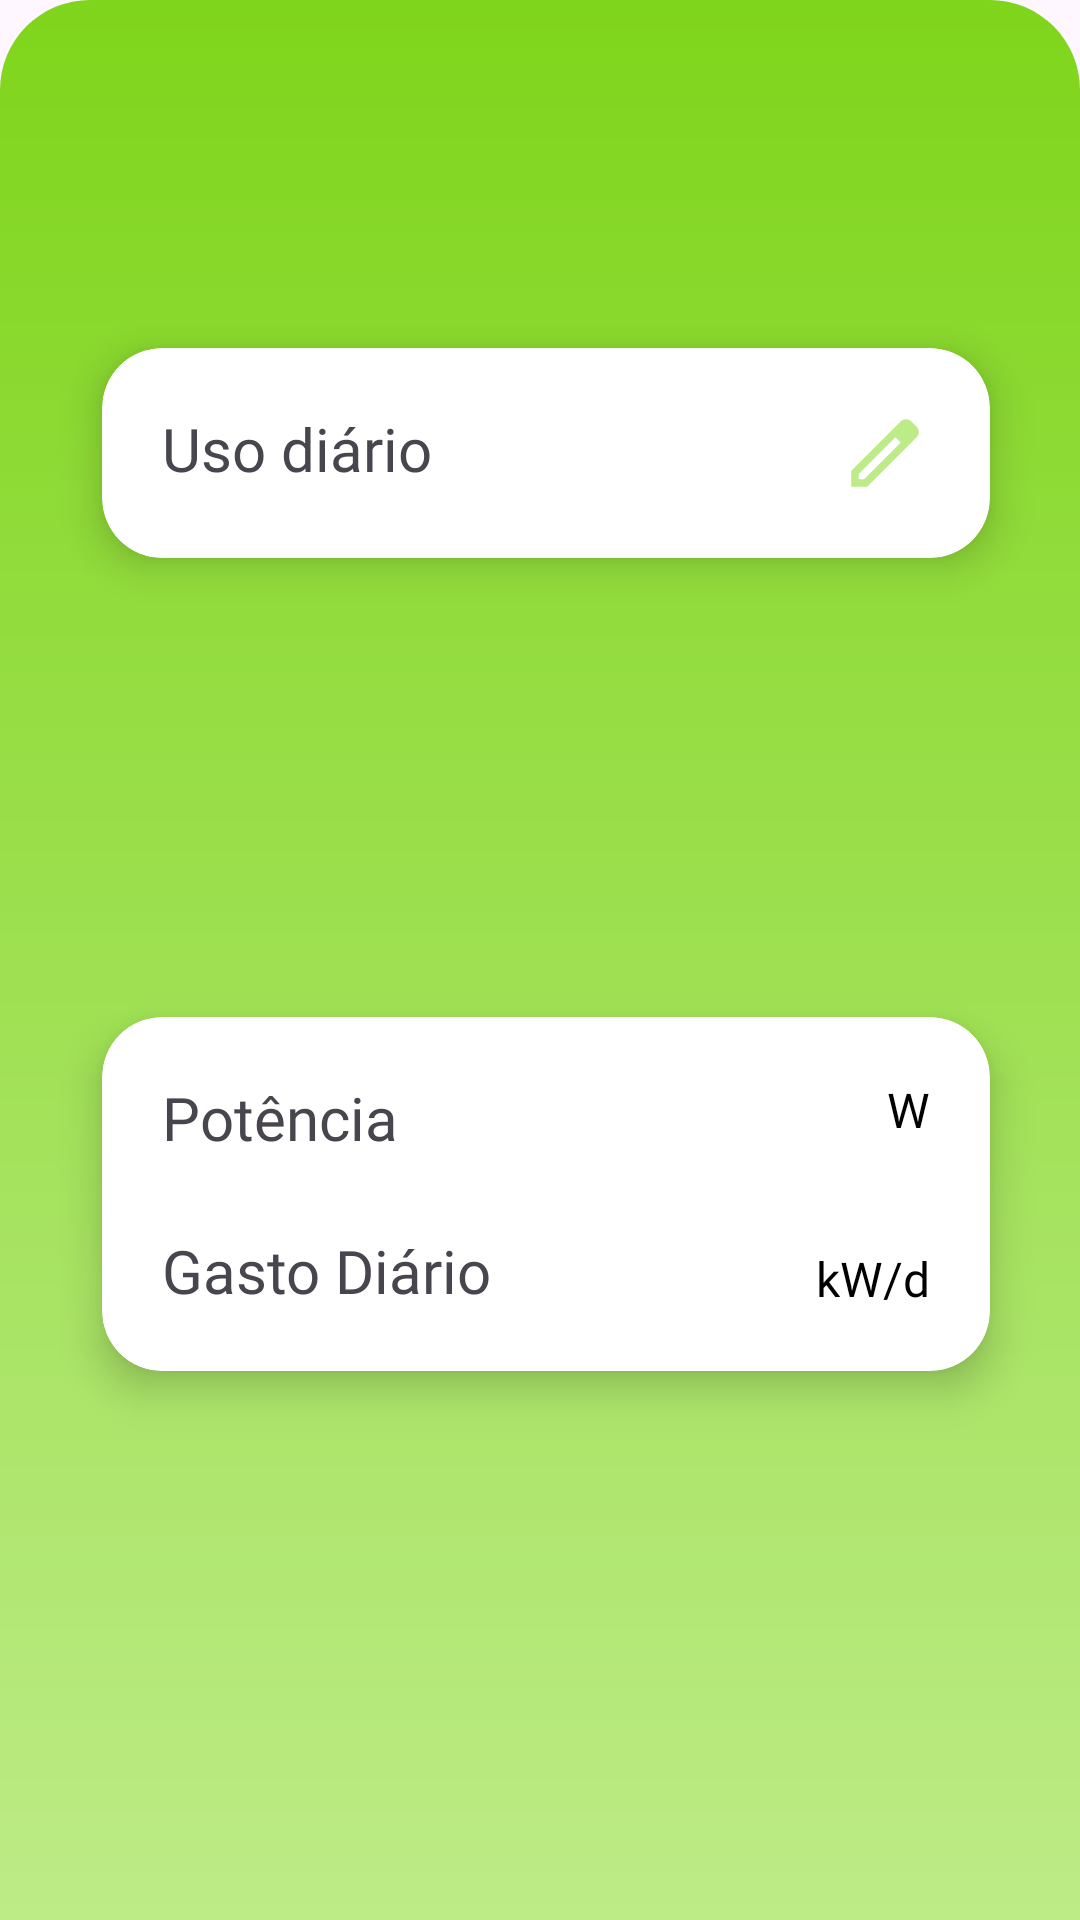

Screen size 1080w x 1920h. Icon name, then its center in pixels as (x,y):
edit pencil: (885,453)
